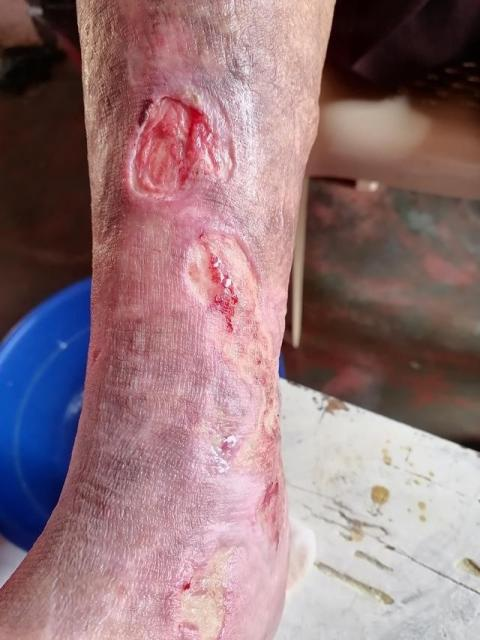wound: (186, 227, 284, 553), (130, 84, 234, 203), (178, 547, 238, 640)
